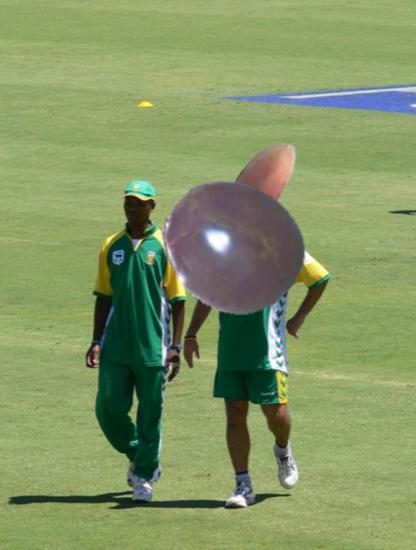Dates: (207, 246, 286, 325)
Hazelnut: (209, 132, 313, 236)
Passion: (159, 172, 305, 318)
